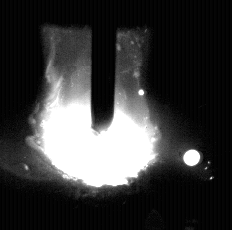arame: (92, 0, 116, 136)
poca: (34, 0, 157, 230)
